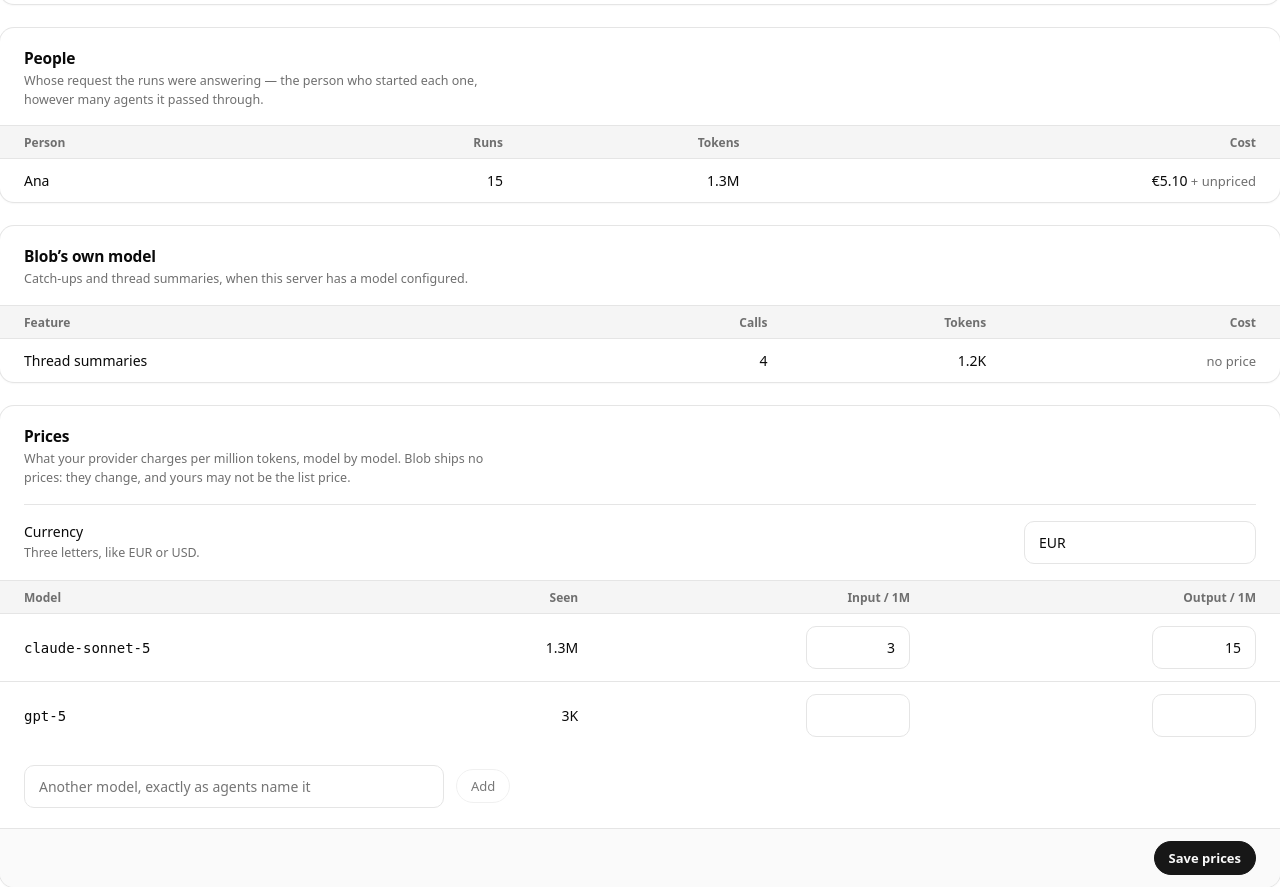
Test case: the price list › offers every model seen, priced or not, and saves only what has both prices
(page scrolled)
Expected: the field named "Input price for claude-sonnet-5" holds "3", [806,626,910,669]
Note: Half a price is not a price: Save waits for both.
Type "1.25" into the field named "Input price for gpt-5" at (858, 715), box [806,694,910,737]
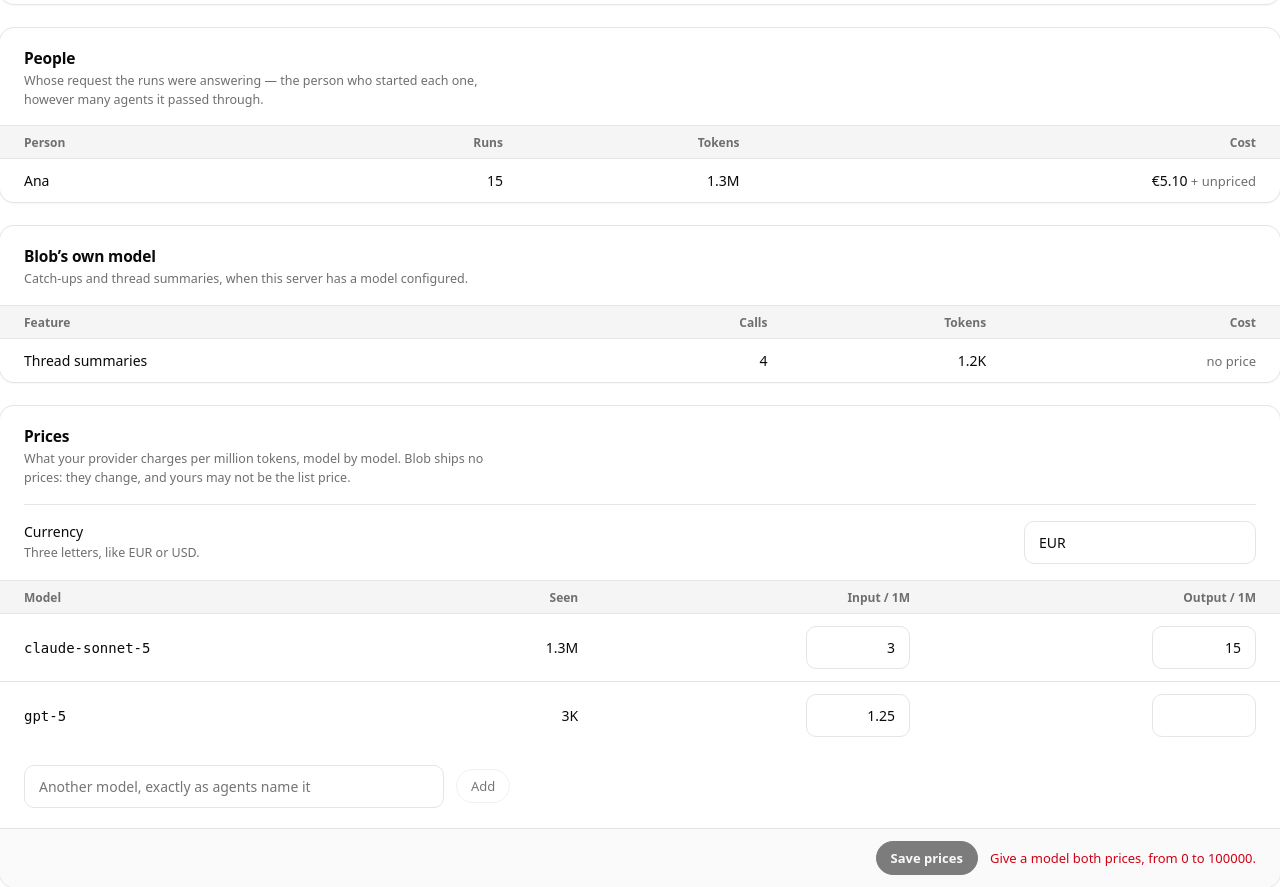
Now the text "Give a model both prices, from 0 to 100000." is shown, box [990,849,1256,867]
Now the button "Save prices" is disabled, box [876,841,978,875]
Type "10" into the field named "Output price for gpt-5" at (1204, 715), box [1152,694,1256,737]
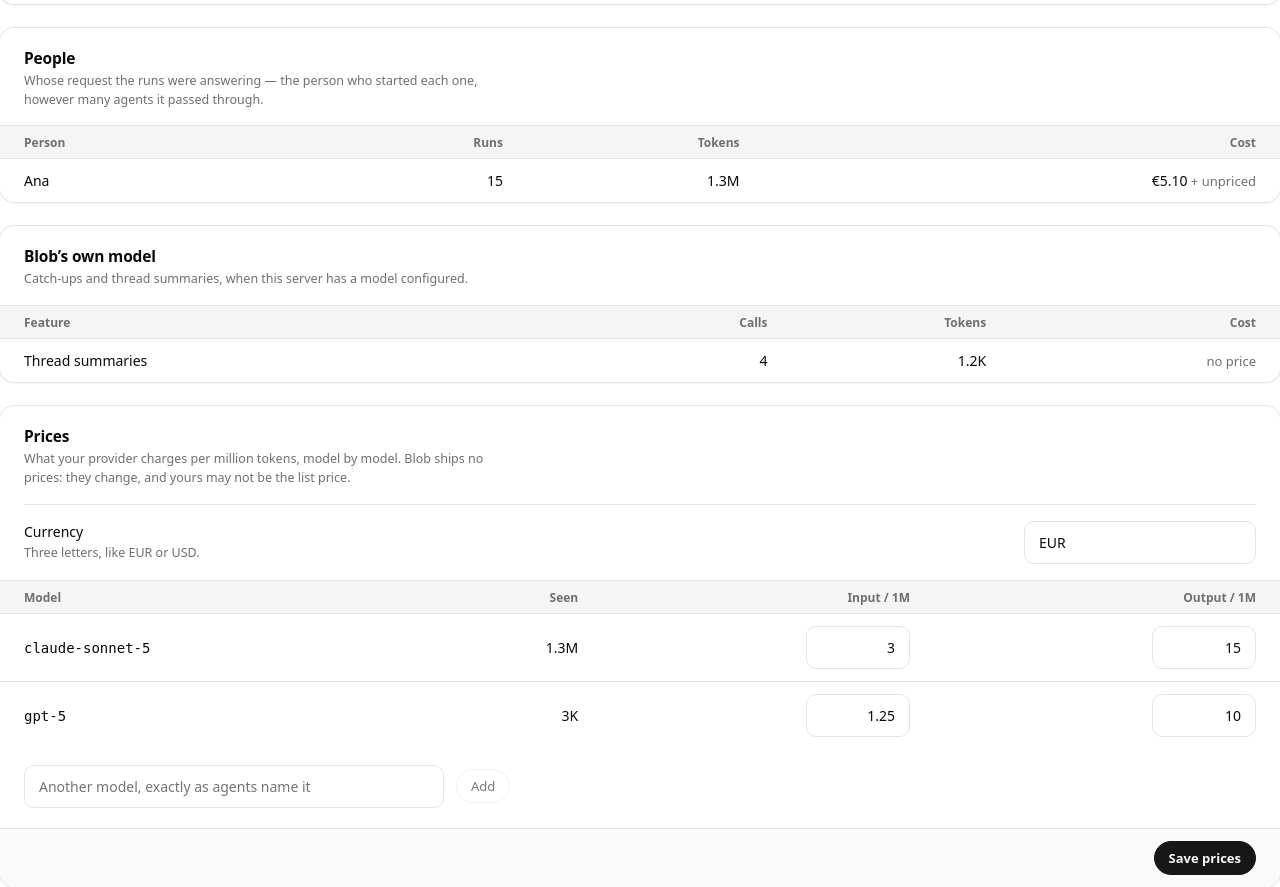
Note: A model typed in by hand, left unpriced, is not sent.
Type "deepseek-v4-pro" into the field named "Model name" at (234, 786), box [24,765,444,808]
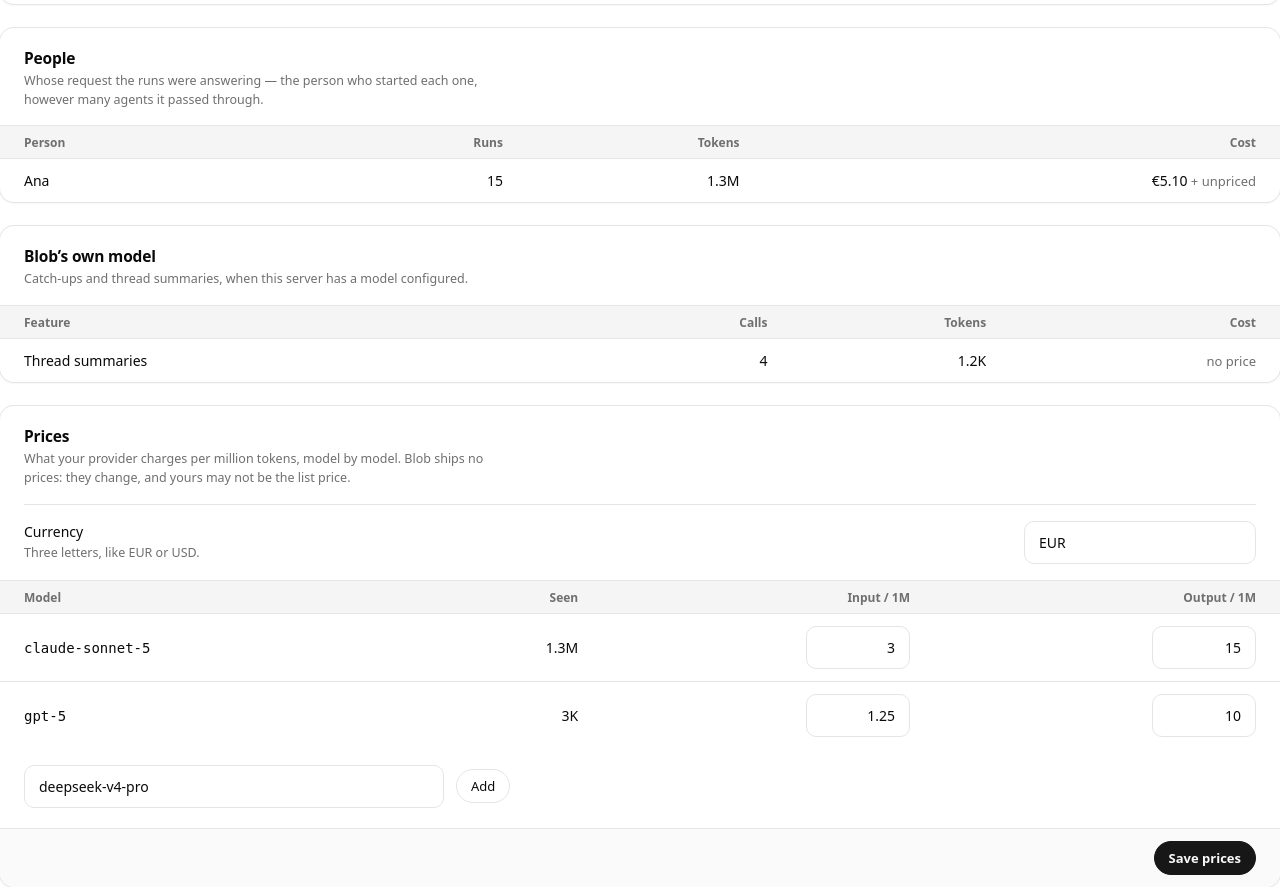
Click the button "Add" at (483, 786), box [456,769,510,803]
(page scrolled)
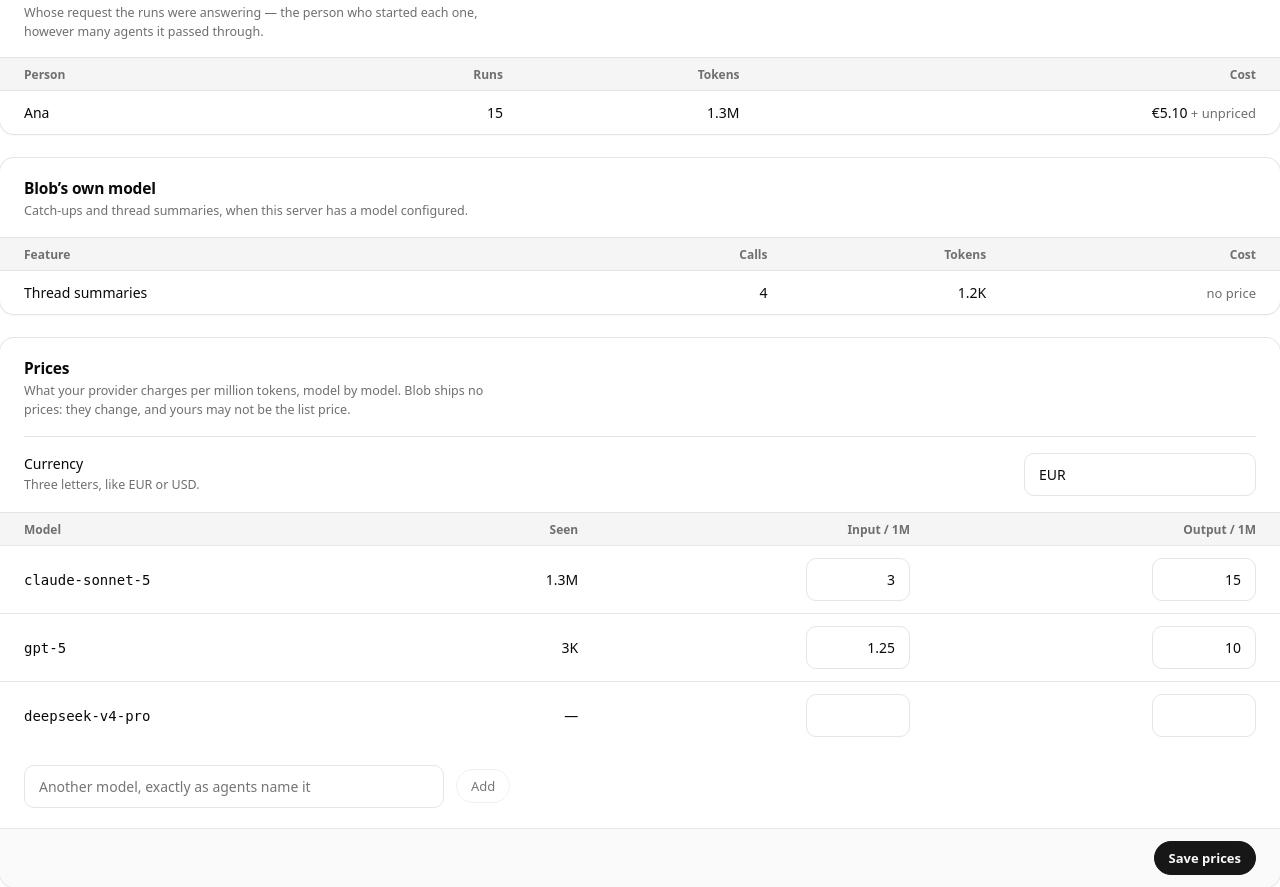
Now the field named "Input price for deepseek-v4-pro" is shown, box [806,694,910,737]
Click the button "Save prices" at (1205, 858), box [1154,841,1256,875]
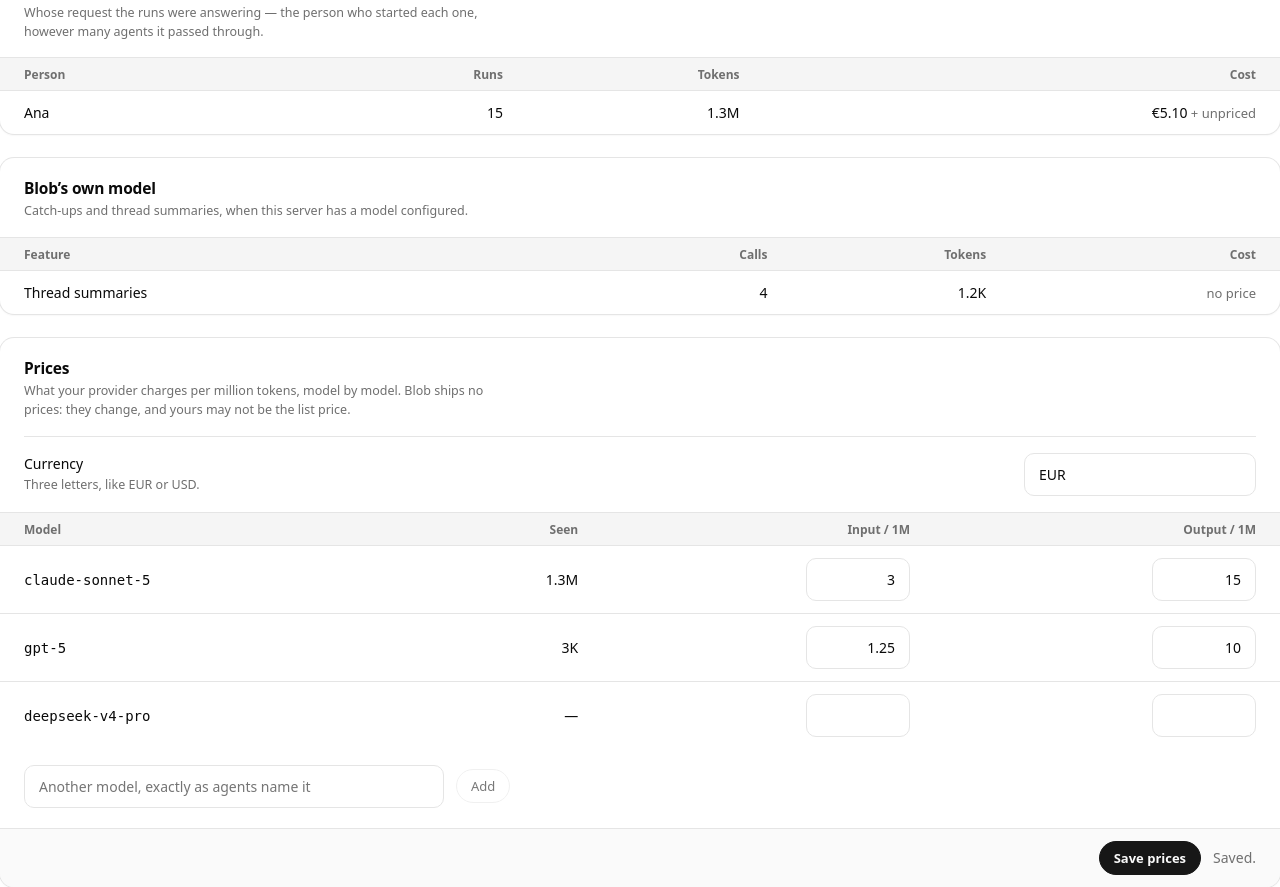
Now the text "Saved." is shown, box [1213,848,1256,867]
